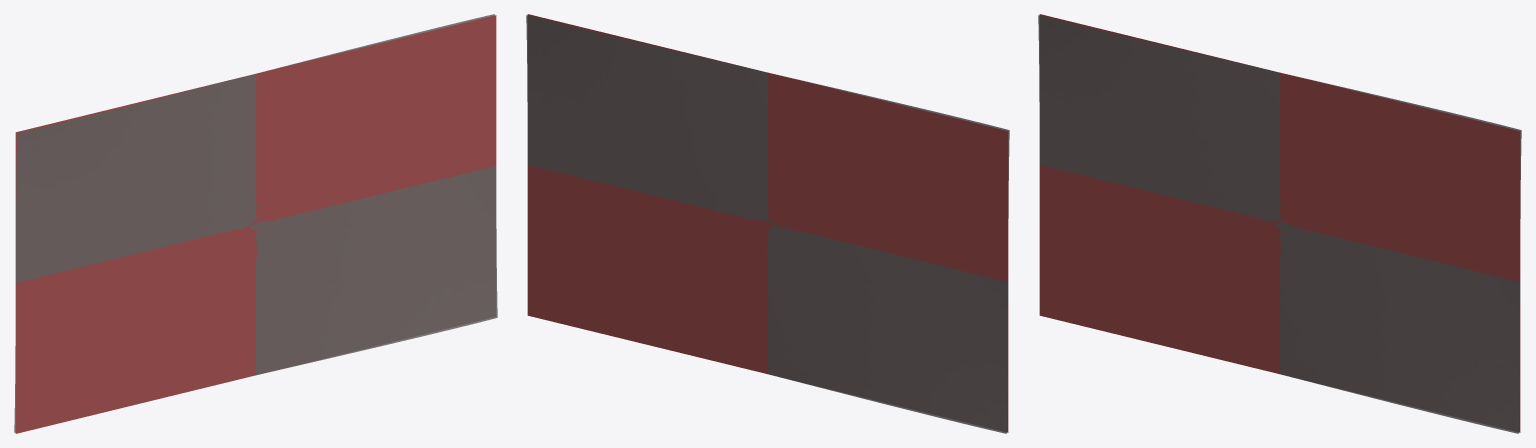
File: warping-rectangle-60-100-1328.glb
3 views of the same model, side by side, from view 1: azimuth 30°, elevation 25°; view 2: azimuth 150°, elevation 25°; view 3: azimuth 330°, elevation 25° (orthographic).
Parts seen in each view (by area): view 1: undeformed cross-section, cross-section with warping; view 2: undeformed cross-section, cross-section with warping; view 3: undeformed cross-section, cross-section with warping.
Boxes of the visible parts, x1=… form: undeformed cross-section: x1=15, y1=15, x2=496, y2=433; cross-section with warping: x1=14, y1=14, x2=497, y2=432; undeformed cross-section: x1=527, y1=14, x2=1008, y2=432; cross-section with warping: x1=526, y1=15, x2=1009, y2=433; undeformed cross-section: x1=1039, y1=14, x2=1520, y2=432; cross-section with warping: x1=1038, y1=15, x2=1521, y2=433.
Size of the model in its own units: 0.1 by 0.06 by 0.00131.
